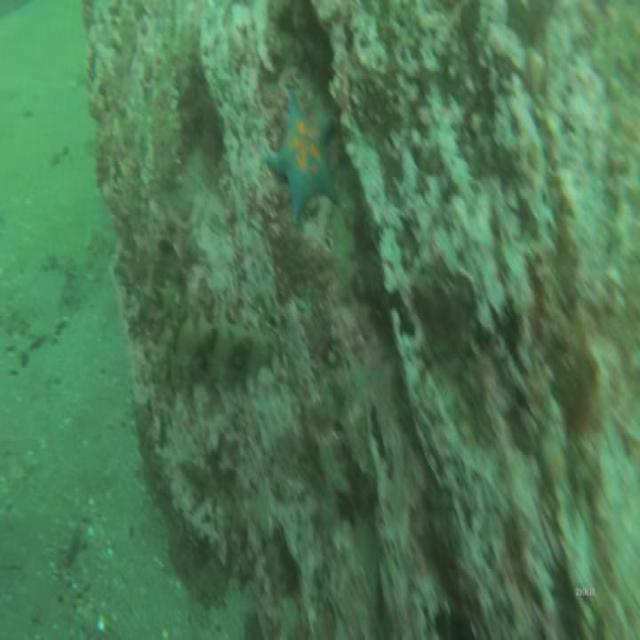holothurian: (149, 26, 199, 194), (169, 318, 275, 392), (147, 273, 180, 381)
starfish: (264, 86, 342, 228)
